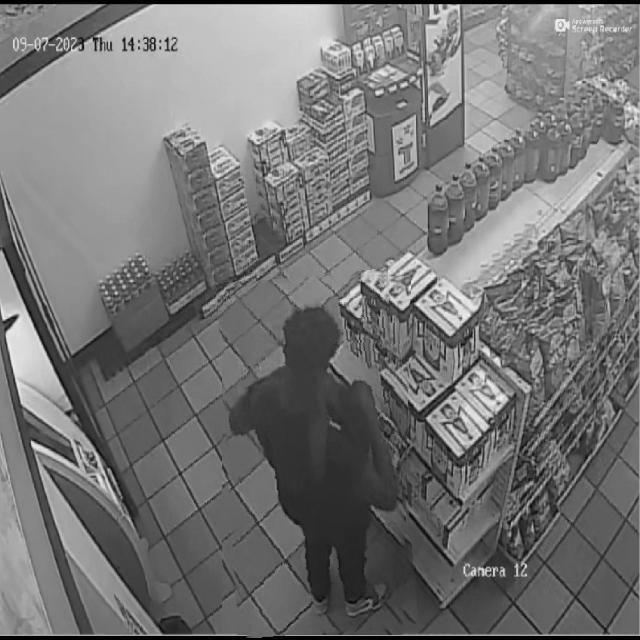normal: (222, 272, 411, 635)
